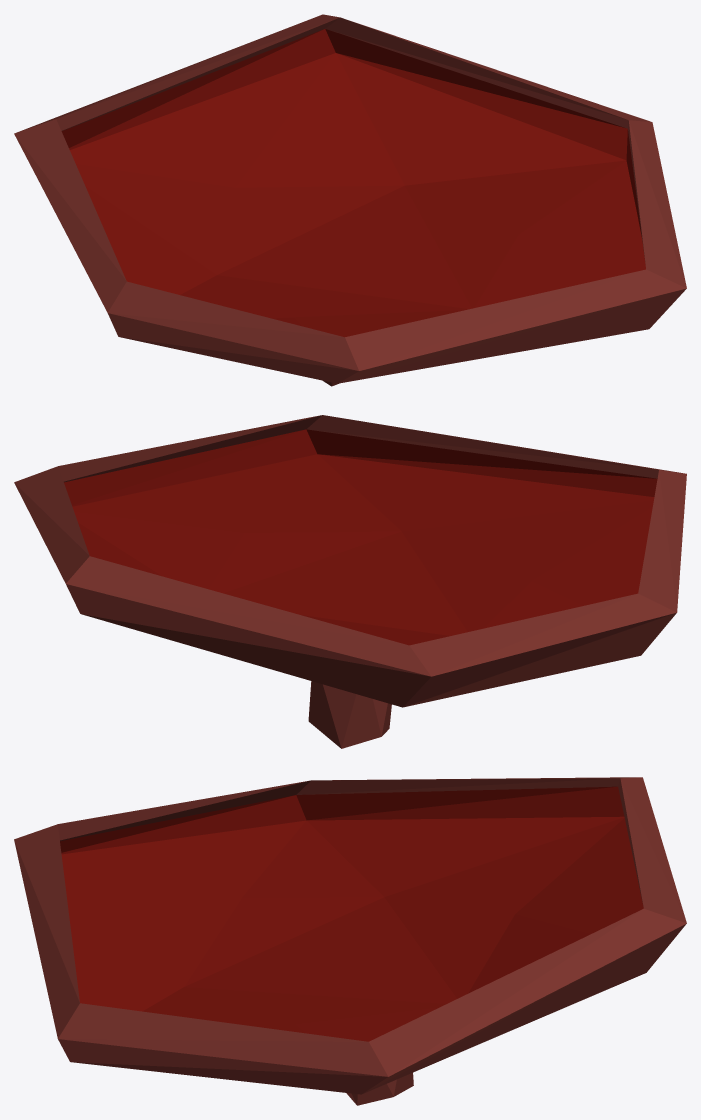
Rendered from SENE_EDAMA-005.FBX.
3 renders of one model, top to bottom at view 1: azimuth 30°, elevation 25°; view 2: azimuth 150°, elevation 25°; view 3: azimuth 270°, elevation 25°, orthographic. The views are drawn at different scales.
Parts seen in each view (by area): view 1: SENE_EDAMA-005; view 2: SENE_EDAMA-005; view 3: SENE_EDAMA-005.
Boxes of the visible parts, x1,y1,x2,y2 form: SENE_EDAMA-005: [14, 14, 686, 386]; SENE_EDAMA-005: [14, 415, 686, 748]; SENE_EDAMA-005: [14, 777, 686, 1105].
Size of the model in its own units: 1244 by 466 by 1153.
